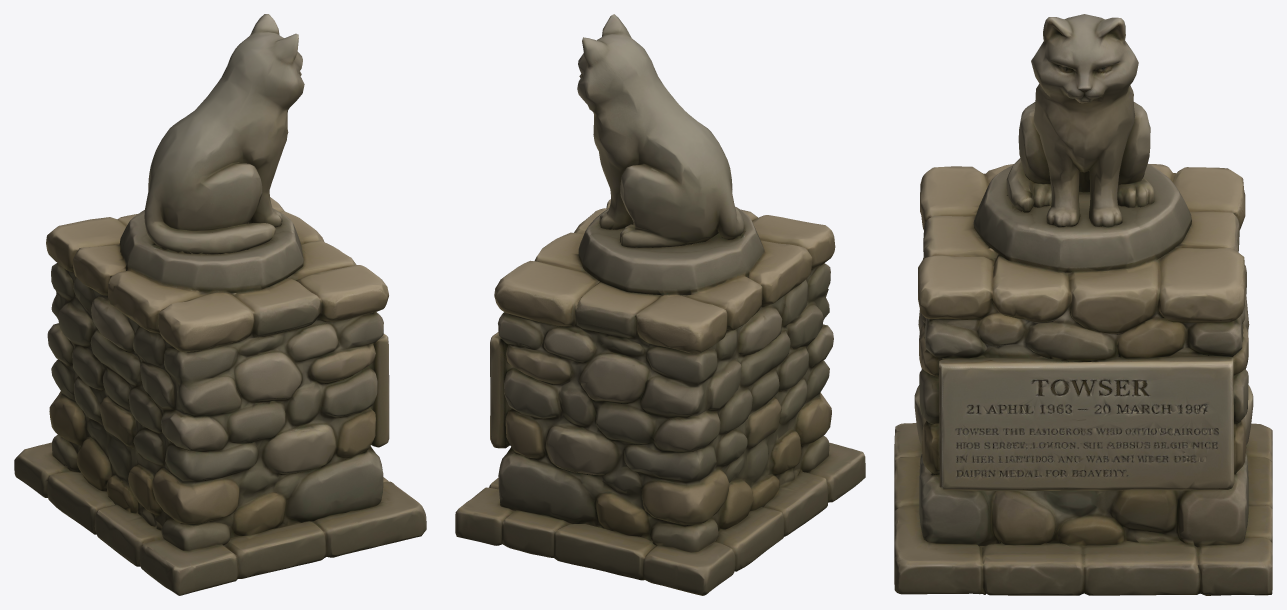
File: towser.glb
3 renders of one model, left to right at view 1: azimuth 30°, elevation 25°; view 2: azimuth 150°, elevation 25°; view 3: azimuth 270°, elevation 25°, orthographic. The views are drawn at different scales.
Visible parts, largest first — view 1: tripo_node_9576b0be-8aaa-4268-92a8-c0895ffdde62; view 2: tripo_node_9576b0be-8aaa-4268-92a8-c0895ffdde62; view 3: tripo_node_9576b0be-8aaa-4268-92a8-c0895ffdde62.
Part boxes in pixels (x1=…): tripo_node_9576b0be-8aaa-4268-92a8-c0895ffdde62: x1=14, y1=14, x2=426, y2=595; tripo_node_9576b0be-8aaa-4268-92a8-c0895ffdde62: x1=455, y1=14, x2=865, y2=595; tripo_node_9576b0be-8aaa-4268-92a8-c0895ffdde62: x1=894, y1=14, x2=1272, y2=595.
Size of the model in its own units: 0.5526 by 0.9783 by 0.6176.
Materials: 1 (1 with a texture image).
